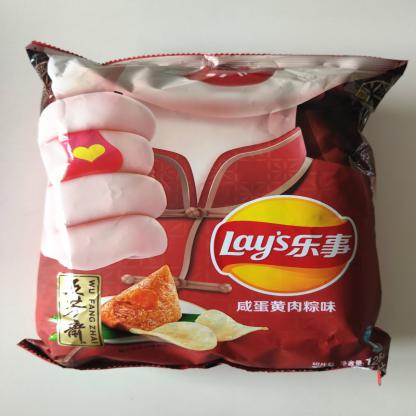potatochip: (13, 32, 416, 392)
